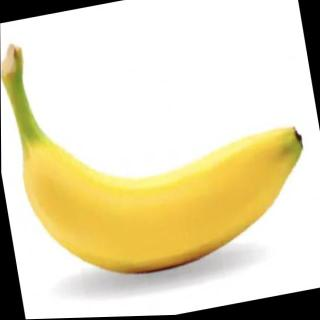banana: (17, 101, 320, 294)
